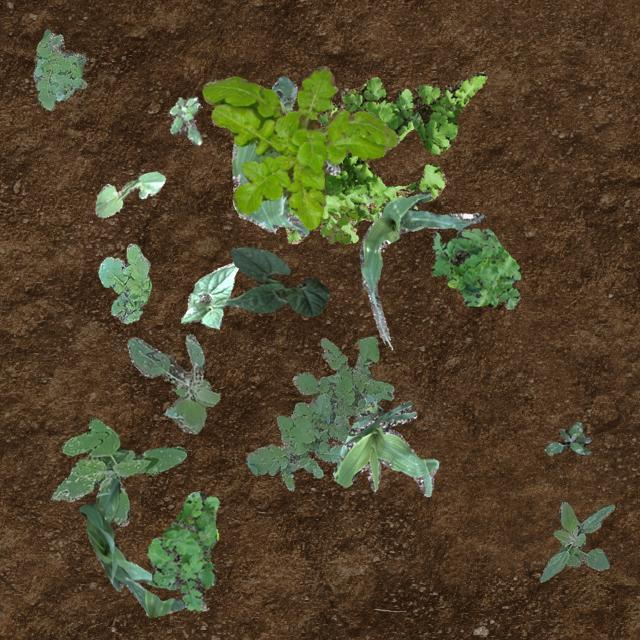crop: (358, 190, 482, 346), (230, 76, 338, 234), (78, 476, 184, 616), (330, 400, 438, 496), (224, 246, 328, 316), (180, 260, 238, 328), (94, 170, 164, 217)
weed: (283, 70, 485, 242), (200, 65, 398, 228), (245, 336, 392, 490), (51, 418, 186, 526), (126, 332, 220, 432), (146, 490, 218, 610), (430, 228, 520, 308), (538, 500, 614, 580), (31, 29, 86, 110), (98, 242, 150, 322), (544, 420, 590, 454), (168, 96, 200, 144), (322, 205, 358, 242)
